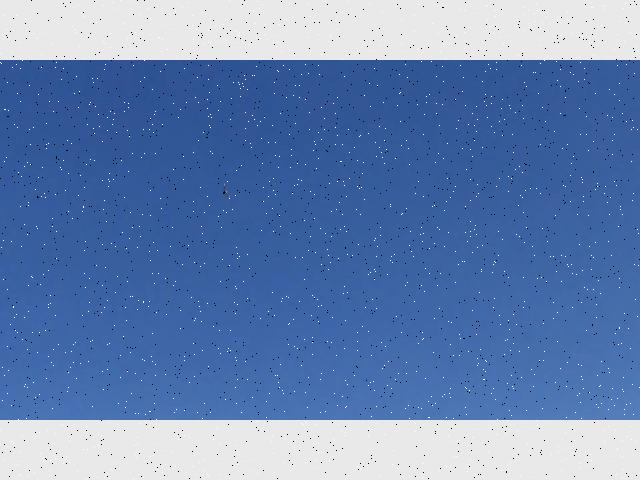Anti-Drone: (209, 173, 243, 205)
